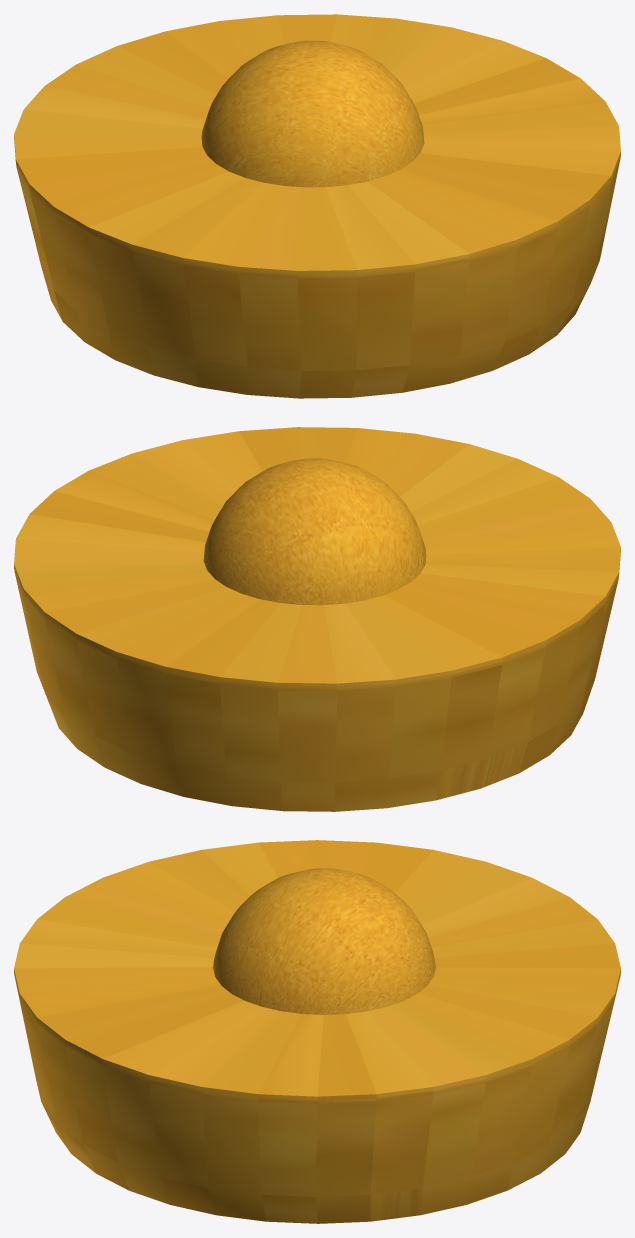
File: kethuk.fbx
3 renders of one model, top to bottom at view 1: azimuth 30°, elevation 25°; view 2: azimuth 150°, elevation 25°; view 3: azimuth 270°, elevation 25°, orthographic.
Visible parts, largest first — view 1: Cylinder.001; view 2: Cylinder.001; view 3: Cylinder.001.
Boxes of the visible parts, left/top/right/bottom form: Cylinder.001: left=14, top=14, right=620, bottom=398; Cylinder.001: left=14, top=427, right=620, bottom=811; Cylinder.001: left=14, top=840, right=620, bottom=1223.
Bounding box in the file's own units: 152 × 64.06 × 152.
